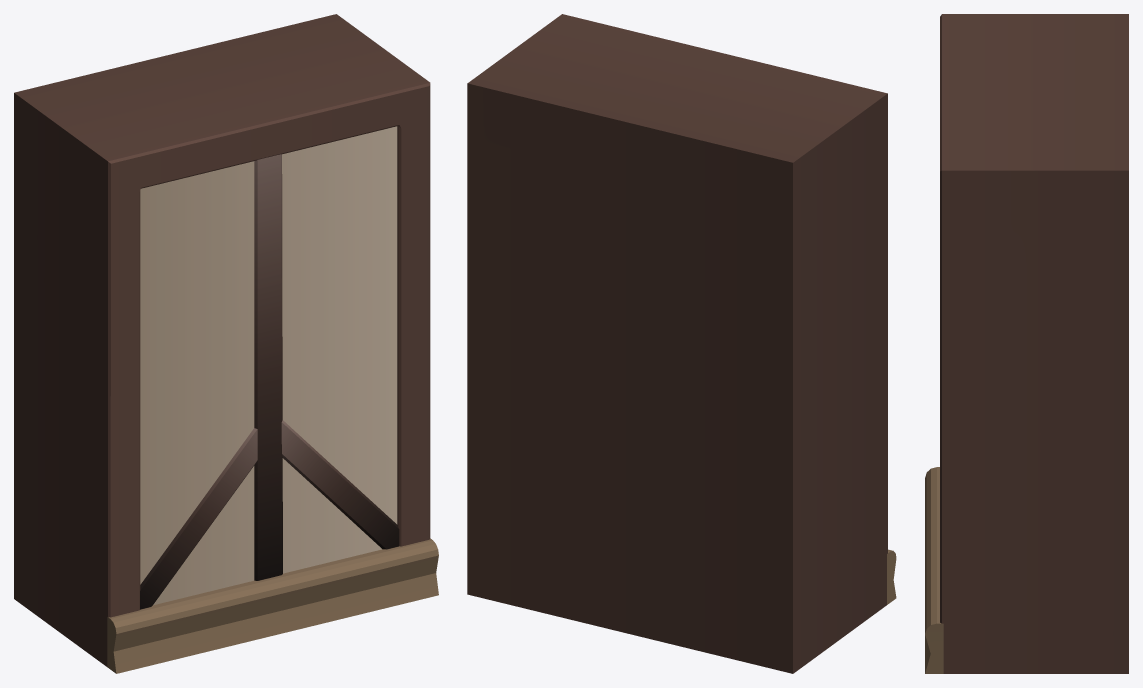
Rendered from paredeMadeira_Lab_varianteDois_LoPo.fbx.
3 views of the same model, side by side, from view 1: azimuth 30°, elevation 25°; view 2: azimuth 150°, elevation 25°; view 3: azimuth 270°, elevation 25° (orthographic).
Parts seen in each view (by area): view 1: paredeMadeira_Lab_varianteDois_LoPo; view 2: paredeMadeira_Lab_varianteDois_LoPo; view 3: paredeMadeira_Lab_varianteDois_LoPo.
Boxes of the visible parts, bbox=[...] form: paredeMadeira_Lab_varianteDois_LoPo: bbox=[14, 14, 438, 673]; paredeMadeira_Lab_varianteDois_LoPo: bbox=[467, 14, 896, 673]; paredeMadeira_Lab_varianteDois_LoPo: bbox=[925, 14, 1128, 673].
Size of the model in its own units: 200 by 300 by 110.
